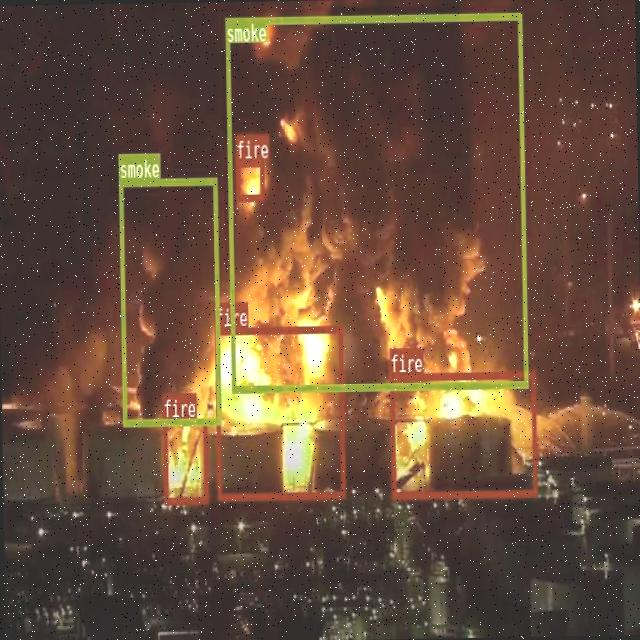fire: (214, 325, 344, 498), (388, 371, 536, 496), (162, 416, 207, 504), (234, 158, 264, 200)
smoke: (224, 12, 526, 391), (118, 177, 220, 426)
